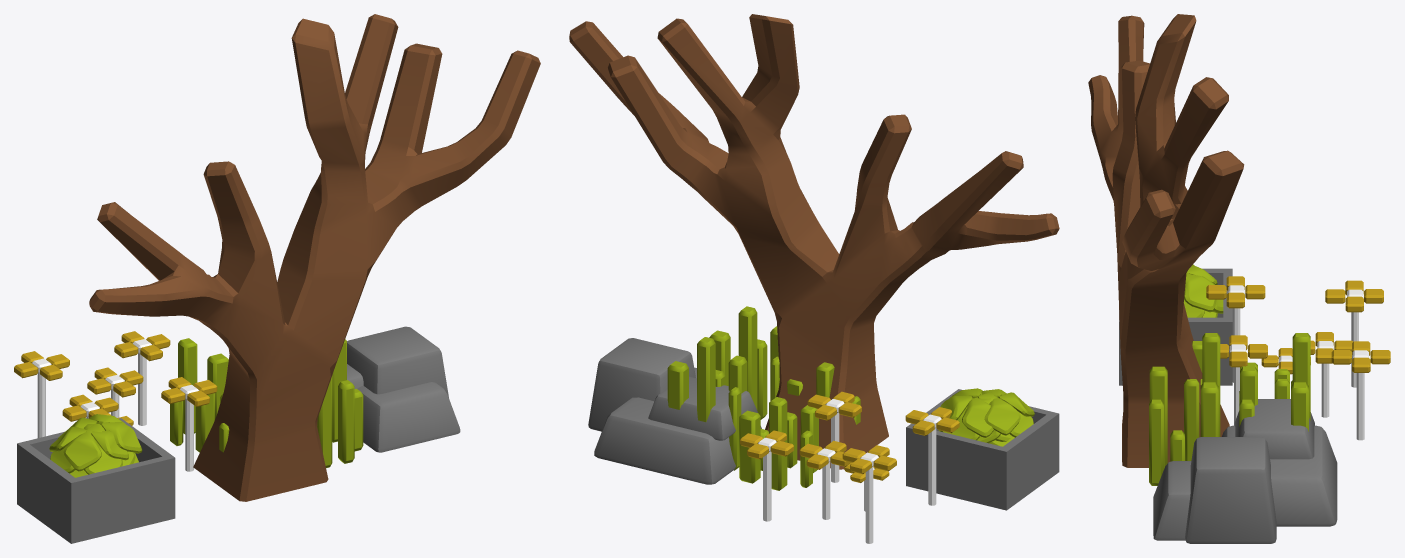
The model's file is scenetest.glb.
3 renders of one model, left to right at view 1: azimuth 30°, elevation 25°; view 2: azimuth 150°, elevation 25°; view 3: azimuth 270°, elevation 25°, orthographic. The views are drawn at different scales.
Parts seen in each view (by area): view 1: DeadTree_3, Cart, Rock2, Flowers_1, Grass_Big.003, Grass_Big.001, Bush.001, Bush; view 2: DeadTree_3, Cart, Flowers_1, Rock1, Rock2, Grass_Big.001, Grass_Big.002, Grass_Big.003, Rock1.001, Bush.001, Bush, Grass_Big; view 3: DeadTree_3, Rock2, Flowers_1, Grass_Big.003, Rock1, Rock1.001, Grass_Big.002, Cart, Bush.
Part boxes in pixels (left/top/right/bottom): DeadTree_3: left=89, top=14, right=540, bottom=501; Cart: left=17, top=418, right=175, bottom=543; Rock2: left=347, top=326, right=460, bottom=452; Flowers_1: left=14, top=331, right=217, bottom=471; Grass_Big.003: left=317, top=339, right=363, bottom=467; Grass_Big.001: left=170, top=338, right=228, bottom=452; Bush.001: left=49, top=424, right=128, bottom=477; Bush: left=58, top=414, right=142, bottom=466; DeadTree_3: left=569, top=14, right=1059, bottom=469; Cart: left=906, top=389, right=1059, bottom=510; Flowers_1: left=740, top=391, right=959, bottom=543; Rock1: left=594, top=397, right=761, bottom=484; Rock2: left=588, top=338, right=696, bottom=431; Grass_Big.001: left=739, top=397, right=818, bottom=490; Grass_Big.002: left=667, top=337, right=747, bottom=470; Grass_Big.003: left=709, top=306, right=779, bottom=419; Rock1.001: left=648, top=376, right=757, bottom=440; Bush.001: left=973, top=389, right=1034, bottom=446; Bush: left=938, top=388, right=1010, bottom=441; Grass_Big: left=787, top=362, right=860, bottom=424; DeadTree_3: left=1088, top=14, right=1244, bottom=467; Rock2: left=1153, top=437, right=1276, bottom=543; Flowers_1: left=1206, top=276, right=1390, bottom=440; Grass_Big.003: left=1149, top=333, right=1220, bottom=485; Rock1: left=1222, top=425, right=1337, bottom=526; Rock1.001: left=1234, top=399, right=1314, bottom=459; Grass_Big.002: left=1239, top=333, right=1310, bottom=431; Cart: left=1119, top=268, right=1232, bottom=385; Bush: left=1183, top=265, right=1223, bottom=317.
Size of the model in its own units: 5.84 by 5.09 by 3.
Materials: 14 (12 with a texture image).
